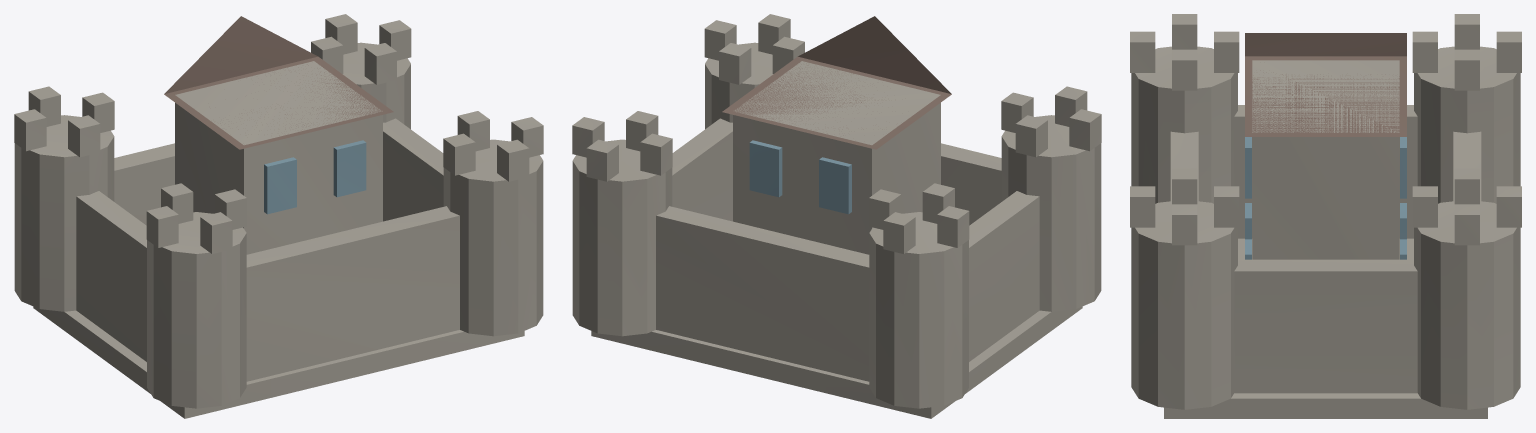
The model's file is castle-06.glb.
3 views of the same model, side by side, from view 1: azimuth 30°, elevation 25°; view 2: azimuth 150°, elevation 25°; view 3: azimuth 270°, elevation 25° (orthographic). The views are drawn at different scales.
Visible parts, largest first — view 1: world; view 2: world; view 3: world.
Boxes of the visible parts, box(x1,y1,x2,y2) form: world: box(14, 14, 543, 418); world: box(572, 14, 1101, 418); world: box(1130, 14, 1521, 418).
Bounding box in the file's own units: 1.7 × 1.17 × 1.4.
